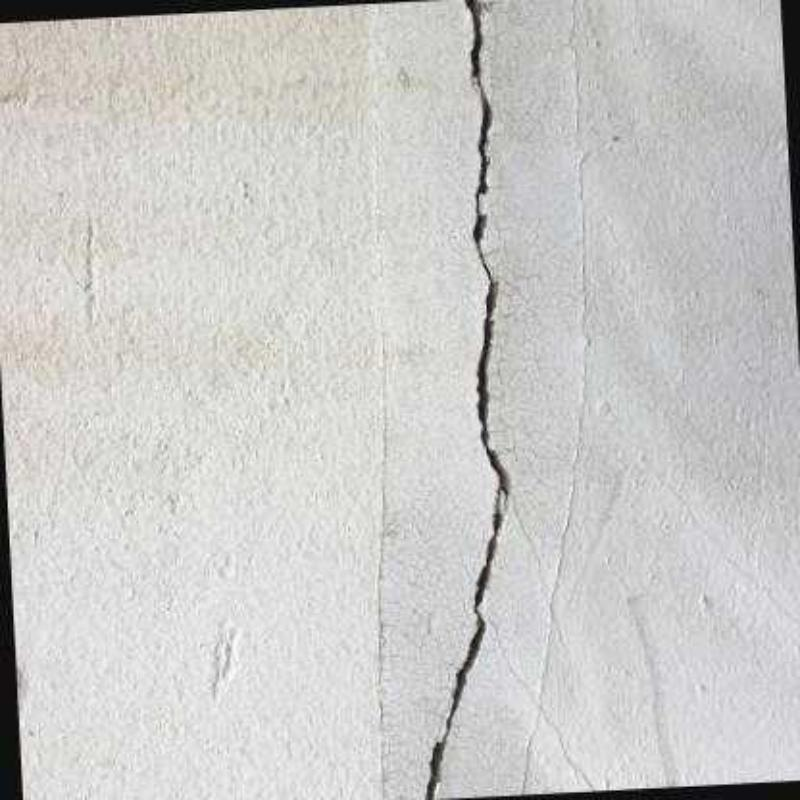crack: (425, 0, 509, 798)
